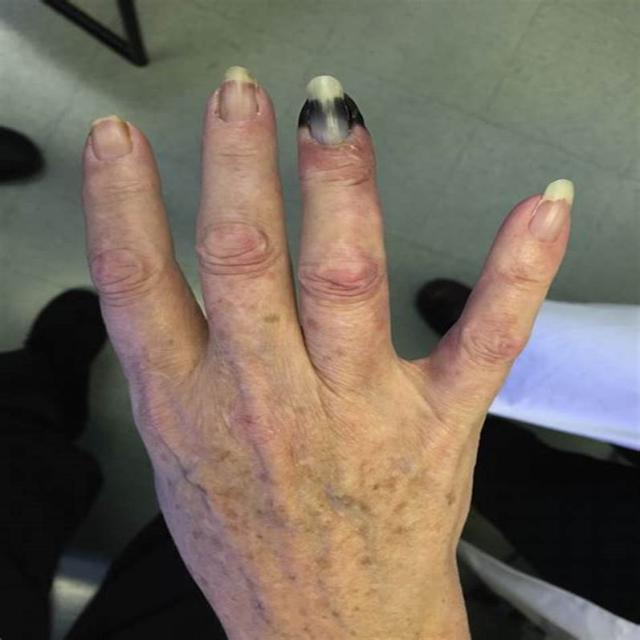Fingernail: (303, 76, 349, 145), (531, 179, 574, 242), (218, 67, 258, 122), (92, 117, 131, 162)
